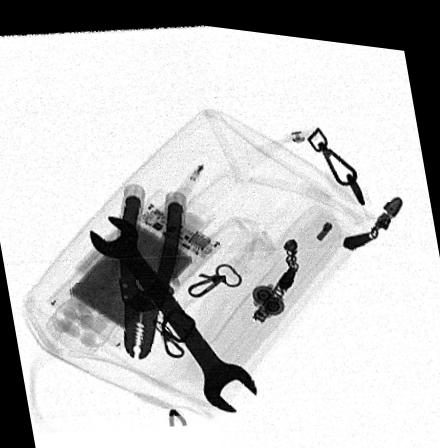Pliers: (118, 192, 184, 359)
Powerbank: (43, 193, 223, 348)
Wrench: (90, 213, 257, 407)
